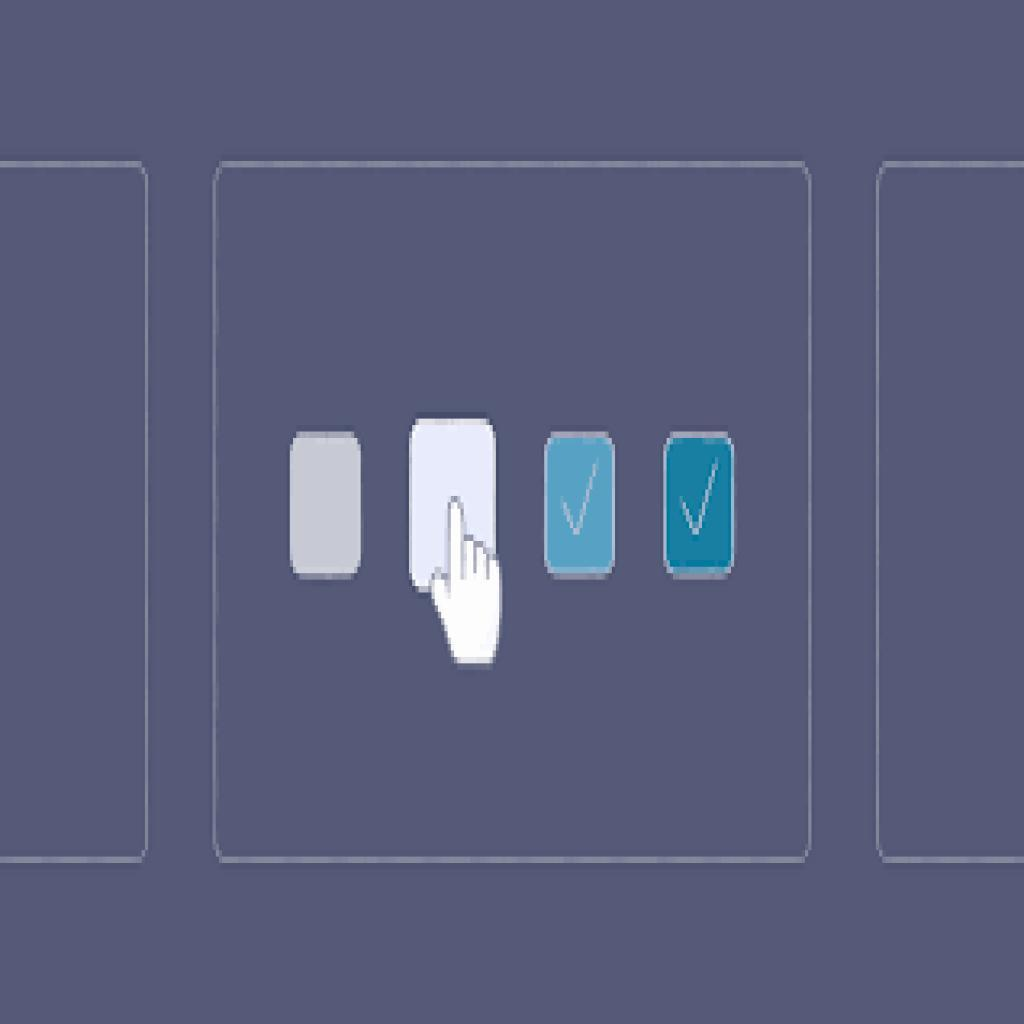checkbox: (661, 428, 743, 578), (286, 431, 364, 581), (540, 428, 616, 581)
